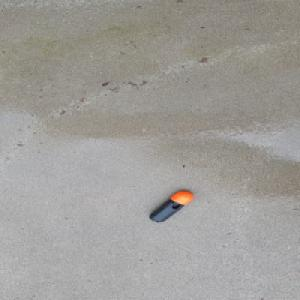PlasticPart: (148, 190, 194, 222)
